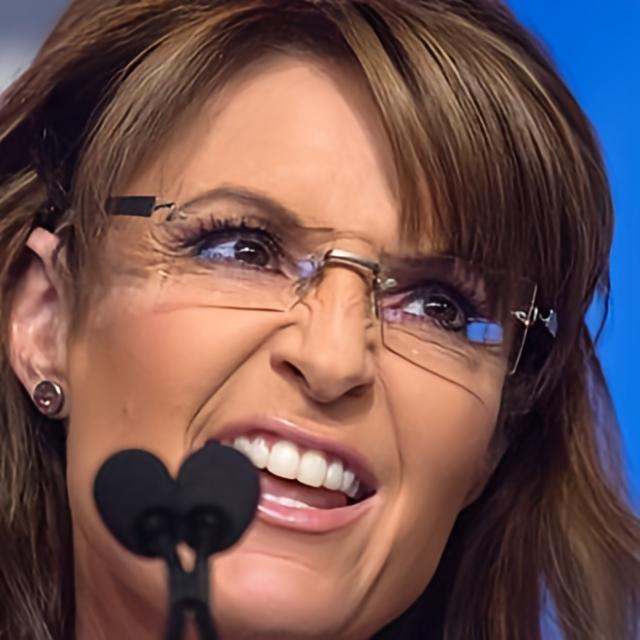disgust: (64, 37, 530, 640)
